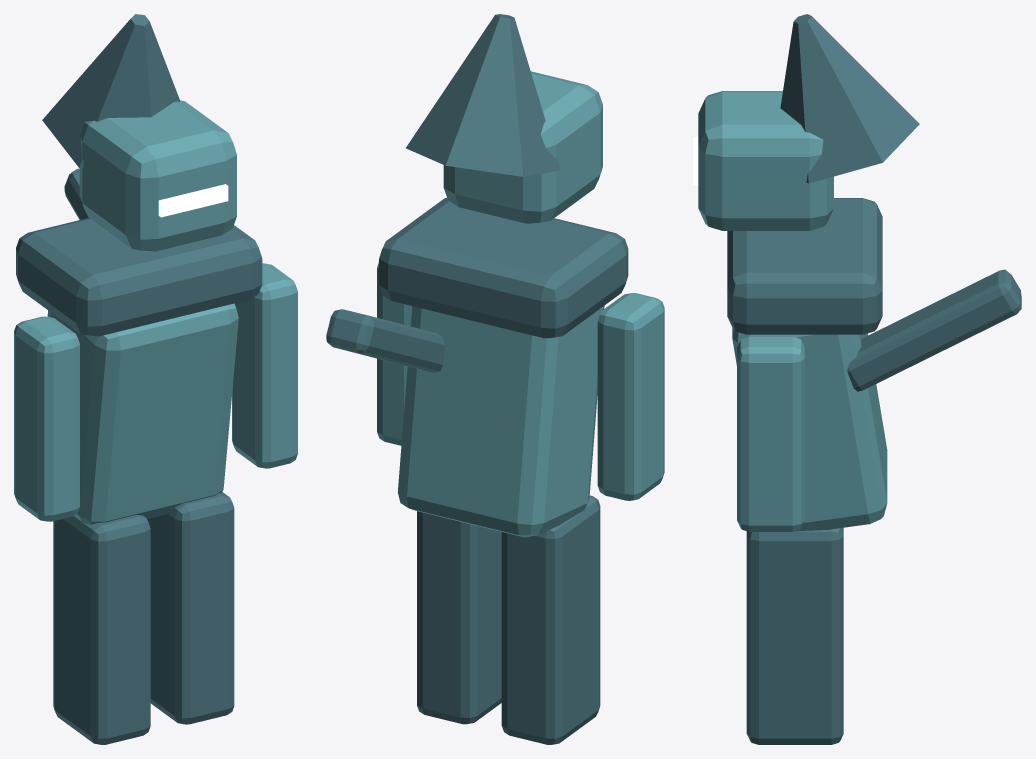
Rendered from enemy_assassin.glb.
3 renders of one model, left to right at view 1: azimuth 30°, elevation 25°; view 2: azimuth 150°, elevation 25°; view 3: azimuth 270°, elevation 25°, orthographic.
Visible parts, largest first — view 1: enemy_assassin; view 2: enemy_assassin; view 3: enemy_assassin.
Part boxes in pixels (left/top/right/bottom): enemy_assassin: left=14, top=14, right=297, bottom=744; enemy_assassin: left=326, top=14, right=664, bottom=744; enemy_assassin: left=693, top=14, right=1021, bottom=744.
Size of the model in its own units: 0.62 by 1.59 by 0.6767.
